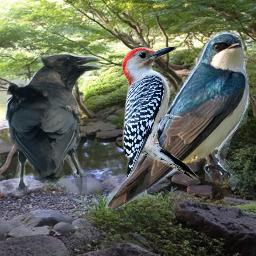Crow: (5, 49, 102, 204)
Swallow: (100, 26, 256, 214)
Woodpecker: (115, 40, 205, 191)
